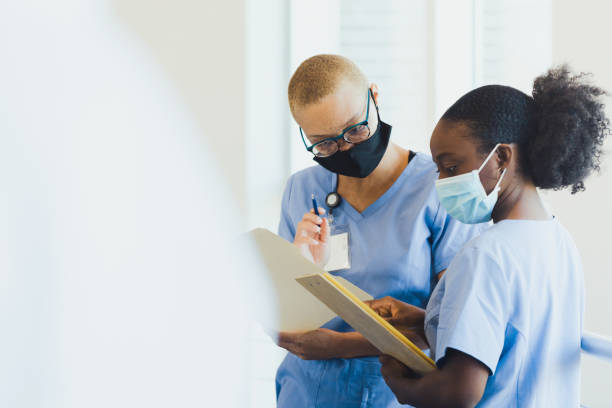with mask: (270, 56, 402, 186), (417, 97, 515, 227)
